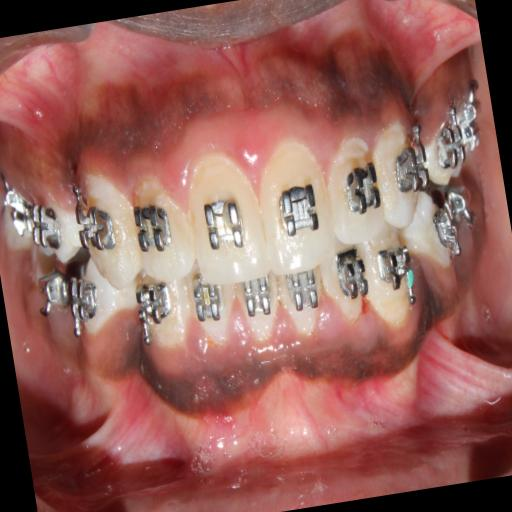correct_brace: (198, 184, 250, 258), (270, 174, 322, 244), (72, 192, 120, 262), (390, 139, 433, 200), (128, 194, 172, 251), (344, 158, 382, 214)
incorrect_brace: (126, 166, 199, 289), (322, 135, 388, 255)
